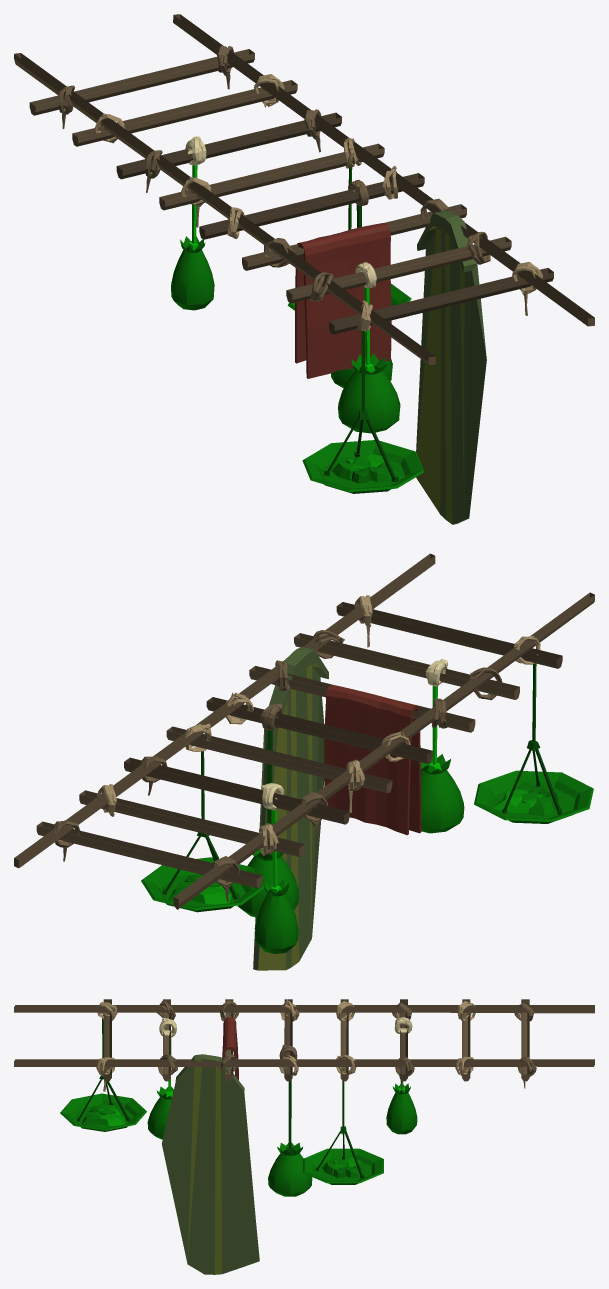
Rendered from EA03_Prop_Crate_Under_Ceiling_01b.glb.
The picture shows the model from 3 angles, top to bottom: view 1: azimuth 30°, elevation 25°; view 2: azimuth 150°, elevation 25°; view 3: azimuth 270°, elevation 25°; orthographic projection. The views are drawn at different scales.
Visible parts, largest first — view 1: EA03_Prop_Crate_Under_Ceiling_01b; view 2: EA03_Prop_Crate_Under_Ceiling_01b; view 3: EA03_Prop_Crate_Under_Ceiling_01b.
Part boxes in pixels (x1,y1,x2,y2): EA03_Prop_Crate_Under_Ceiling_01b: (14,14,594,524); EA03_Prop_Crate_Under_Ceiling_01b: (14,553,594,970); EA03_Prop_Crate_Under_Ceiling_01b: (14,999,594,1274).
Size of the model in its own units: 1.07 by 1.22 by 2.93.
1 material, 1 textured.
